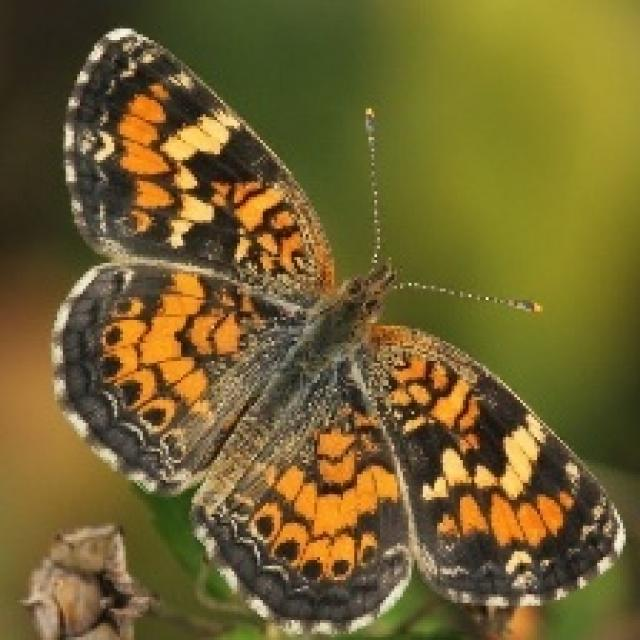butterfly: (49, 23, 626, 637)
